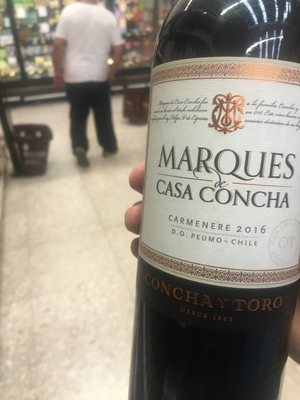marques de casa concha carmenere: (130, 22, 300, 362)
